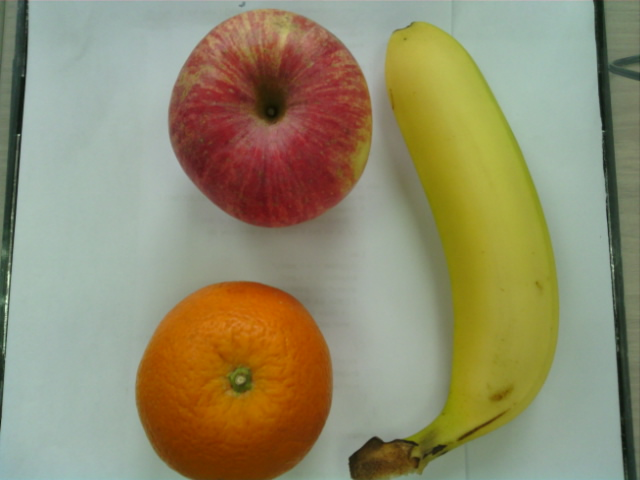normal_apple: (167, 9, 375, 229)
normal_banana: (378, 11, 560, 473)
normal_orange: (132, 277, 335, 480)
